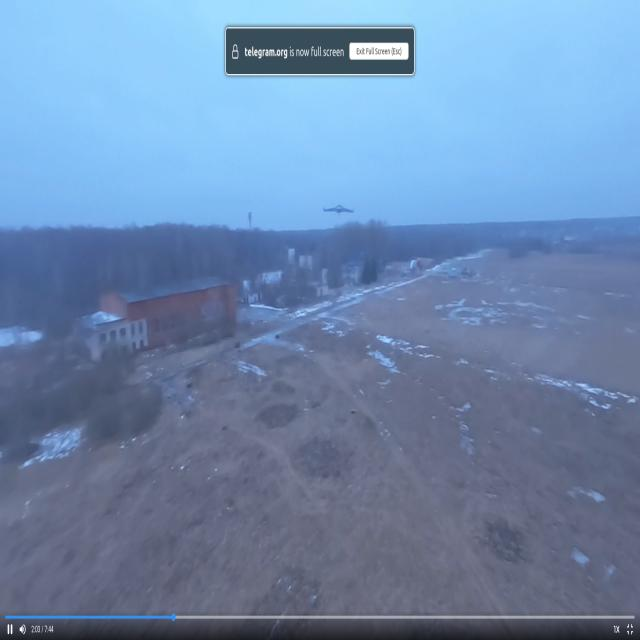planedrone: (320, 200, 354, 218)
